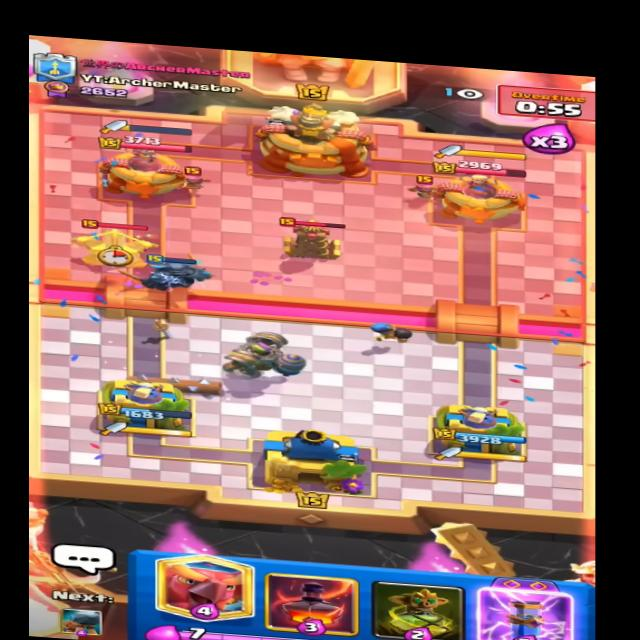archer: (405, 173, 449, 197), (171, 161, 209, 188)
log: (119, 372, 230, 402)
tesla: (280, 217, 350, 264)
x-bow: (64, 213, 159, 271)
